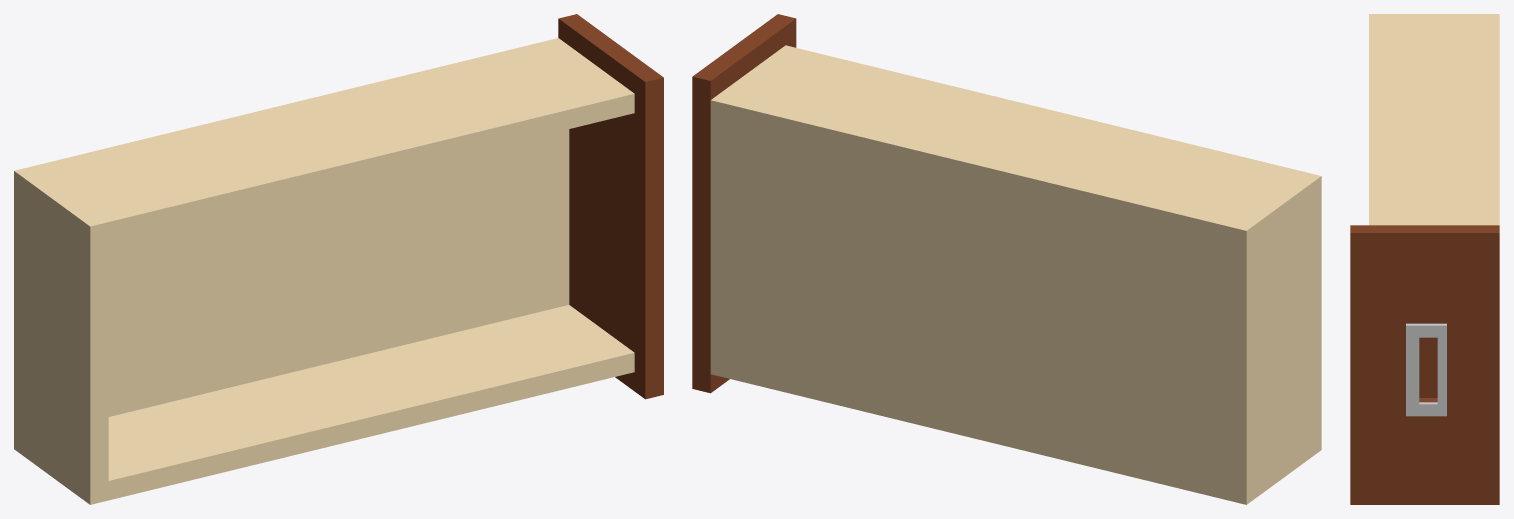
The model's file is SQUARE-600-CLOSET-BODYSET4_link_mesh.dae.
3 renders of one model, left to right at view 1: azimuth 30°, elevation 25°; view 2: azimuth 150°, elevation 25°; view 3: azimuth 270°, elevation 25°, orthographic. The views are drawn at different scales.
Visible parts, largest first — view 1: SQUARE-600-CLOSET-BODYSET4_link (×2); view 2: SQUARE-600-CLOSET-BODYSET4_link (×2); view 3: SQUARE-600-CLOSET-BODYSET4_link (×3).
Part boxes in pixels (x1=…): SQUARE-600-CLOSET-BODYSET4_link (×2): x1=14, y1=14, x2=663, y2=504; SQUARE-600-CLOSET-BODYSET4_link (×2): x1=692, y1=14, x2=1321, y2=504; SQUARE-600-CLOSET-BODYSET4_link (×3): x1=1350, y1=14, x2=1499, y2=504.
Size of the model in its own units: 0.551 by 0.294 by 0.146.
